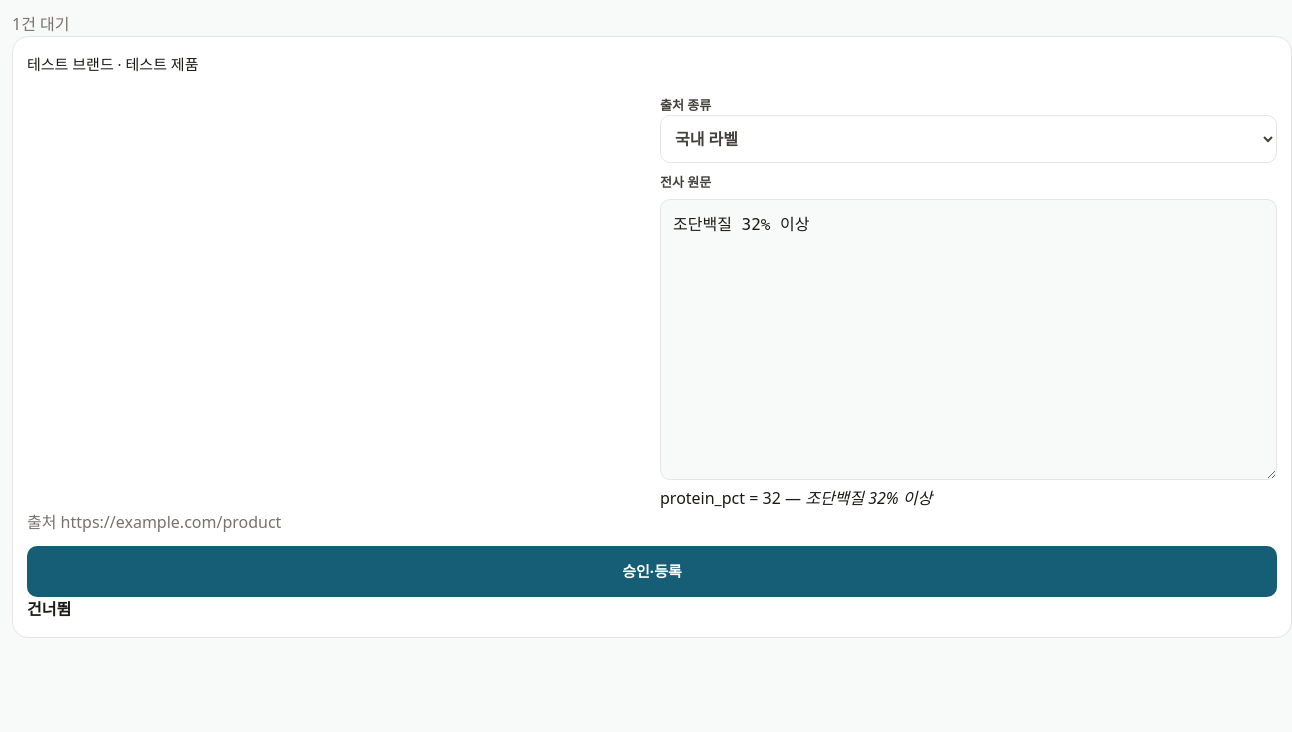
Test: LabelTranscribeClient 승인 실패 › 출처 종류를 승인 전에 바꾸면 등록 요청에 반영한다
Select "제조사" in the dropdown labelled "출처 종류": point(968, 139) 660,115 -> 1277,163
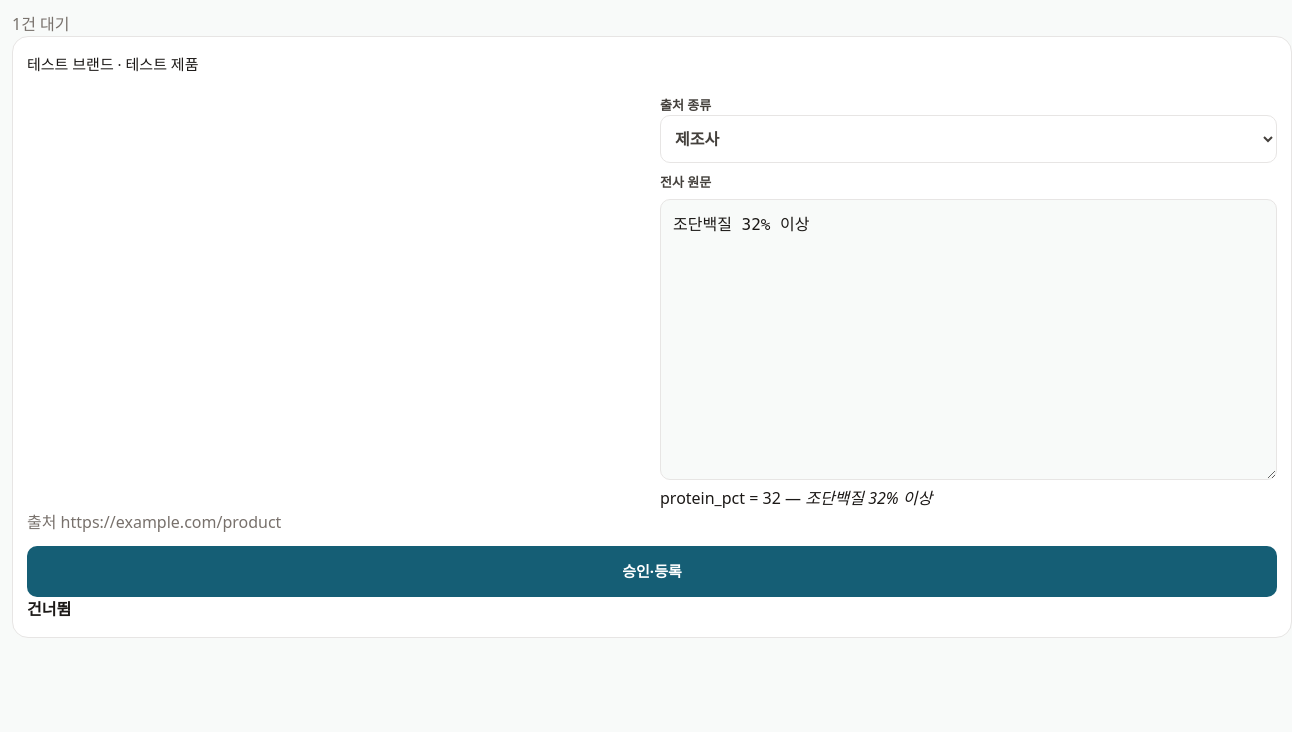
Click the button "승인·등록": point(652, 572) 27,546 -> 1277,597
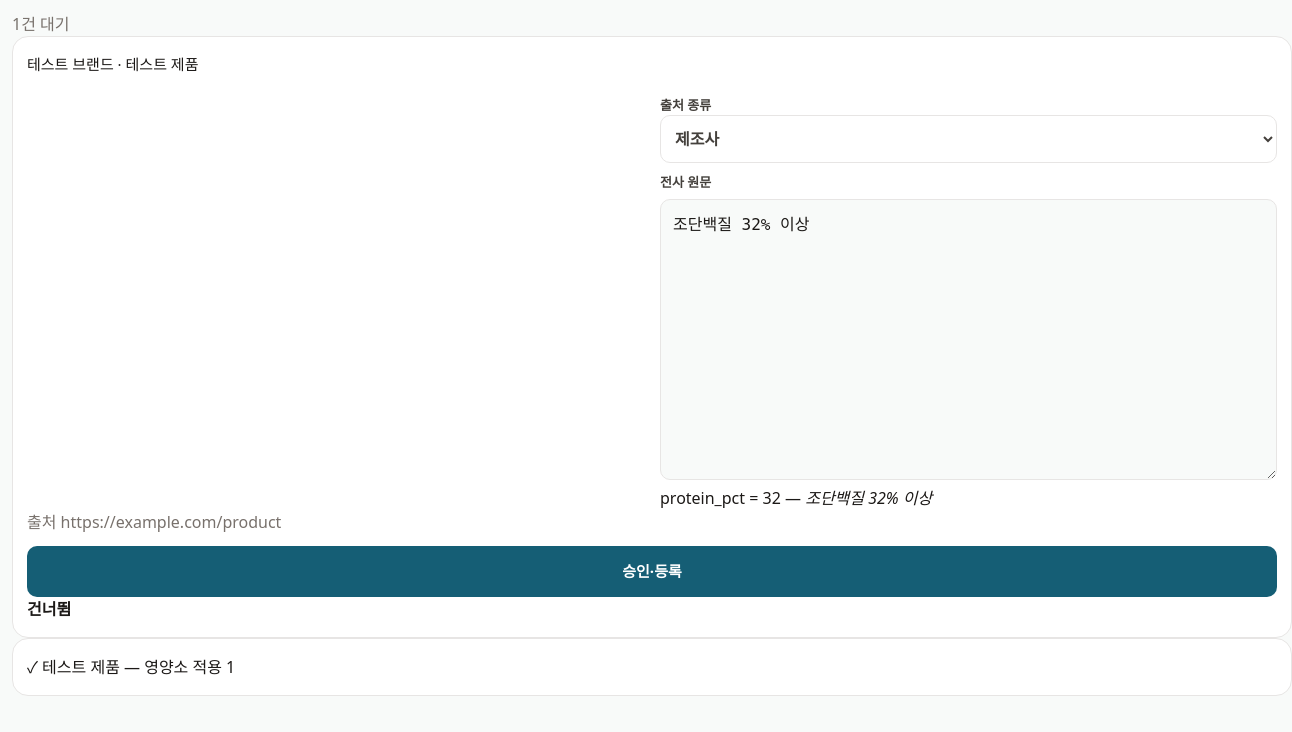
Check: the message "✓ 테스트 제품 — 영양소 적용 1" is shown, box 12,638 -> 1291,696
